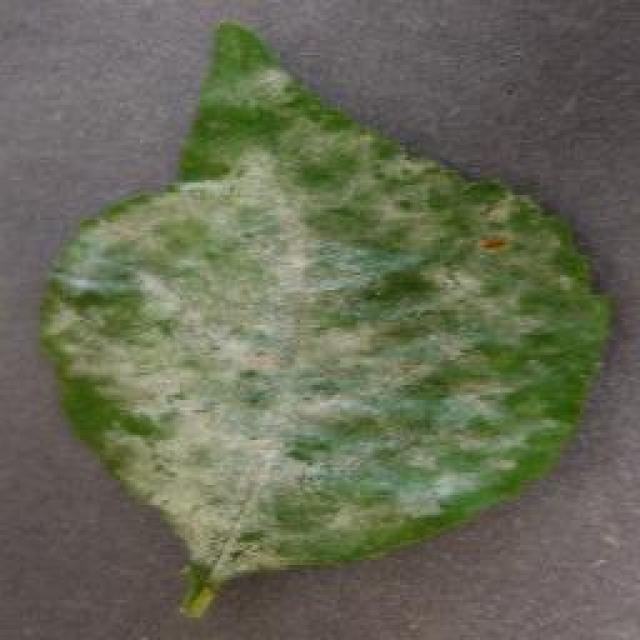Cherry___Powdery_mildew: (75, 143, 571, 555)
